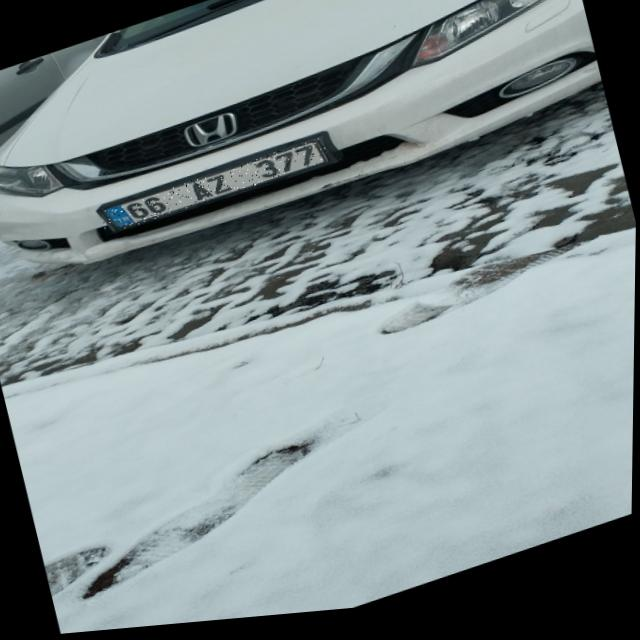license_plate: (101, 141, 329, 237)
